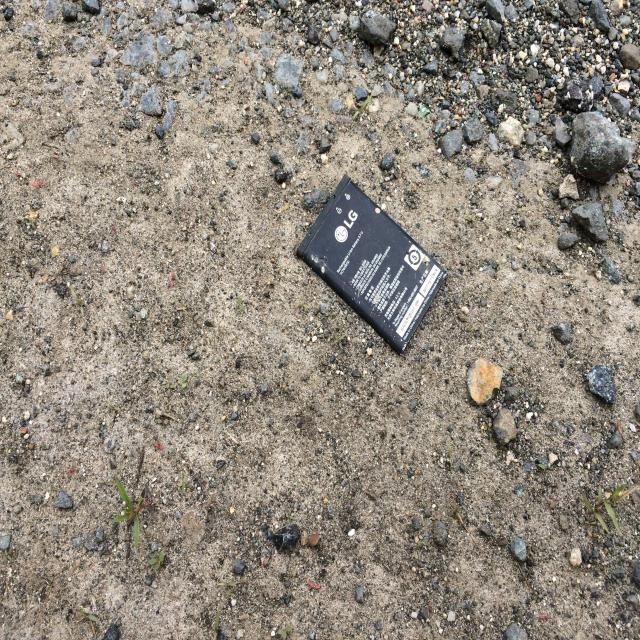litter: (294, 172, 449, 354)
